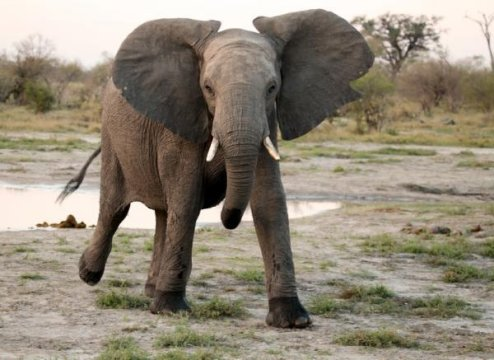elephant: (69, 9, 372, 336)
